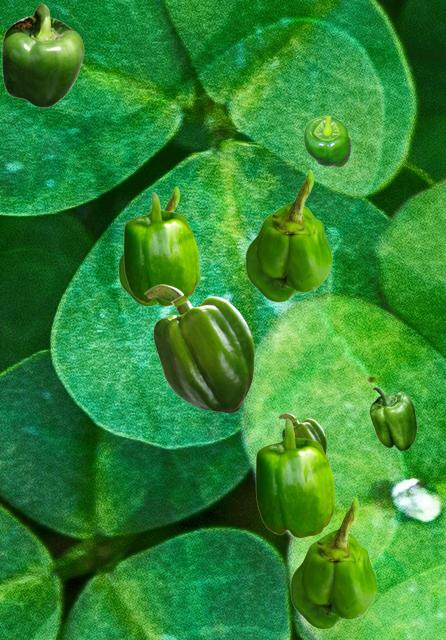bell_pepper: (144, 284, 253, 412), (245, 169, 331, 301), (290, 496, 376, 628), (255, 418, 334, 537), (1, 3, 83, 107), (123, 192, 198, 305), (118, 186, 180, 305), (369, 386, 416, 450), (303, 115, 350, 166), (278, 413, 325, 451)
